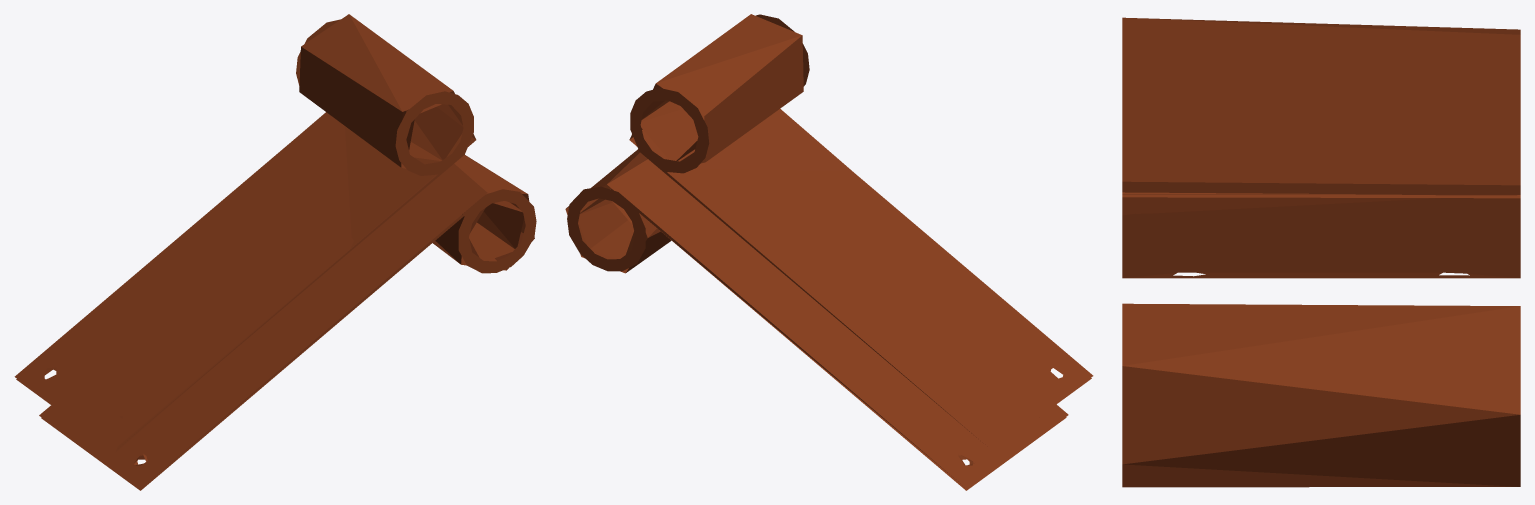
The model's file is rocker_left_054.dae.
3 views of the same model, side by side, from view 1: azimuth 30°, elevation 25°; view 2: azimuth 150°, elevation 25°; view 3: azimuth 270°, elevation 25° (orthographic). The views are drawn at different scales.
Parts seen in each view (by area): view 1: node; view 2: node; view 3: node.
Part boxes in pixels (left/top/right/bottom): node: left=14, top=14, right=536, bottom=490; node: left=565, top=14, right=1093, bottom=490; node: left=1122, top=17, right=1520, bottom=487.
Bounding box in the file's own units: 0.1874 × 0.0762 × 0.1389.
